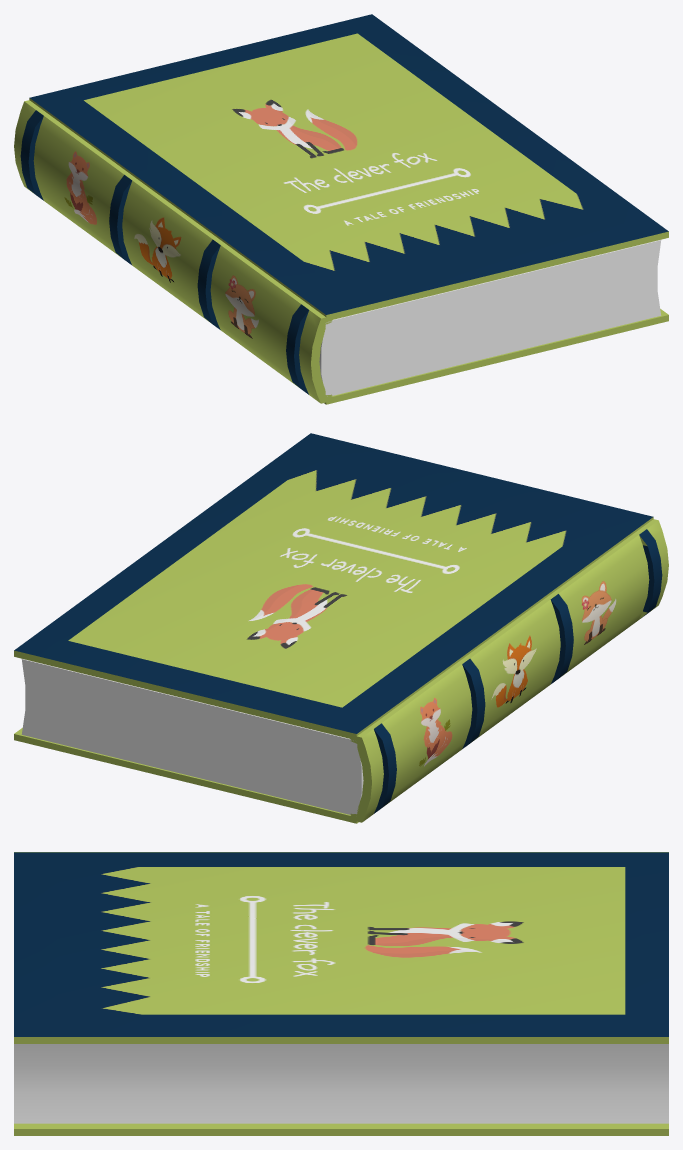
Rendered from Book 5.fbx.
3 views of the same model, one above another, from view 1: azimuth 30°, elevation 25°; view 2: azimuth 150°, elevation 25°; view 3: azimuth 270°, elevation 25° (orthographic). The views are drawn at different scales.
Visible parts, largest first — view 1: Book 5; view 2: Book 5; view 3: Book 5.
Boxes of the visible parts, left/top/right/bottom form: Book 5: left=14, top=14, right=668, bottom=404; Book 5: left=14, top=433, right=668, bottom=823; Book 5: left=14, top=852, right=668, bottom=1135.
Size of the model in its own units: 13.4 by 3.41 by 18.97.
Materials: 1 (1 with a texture image).
